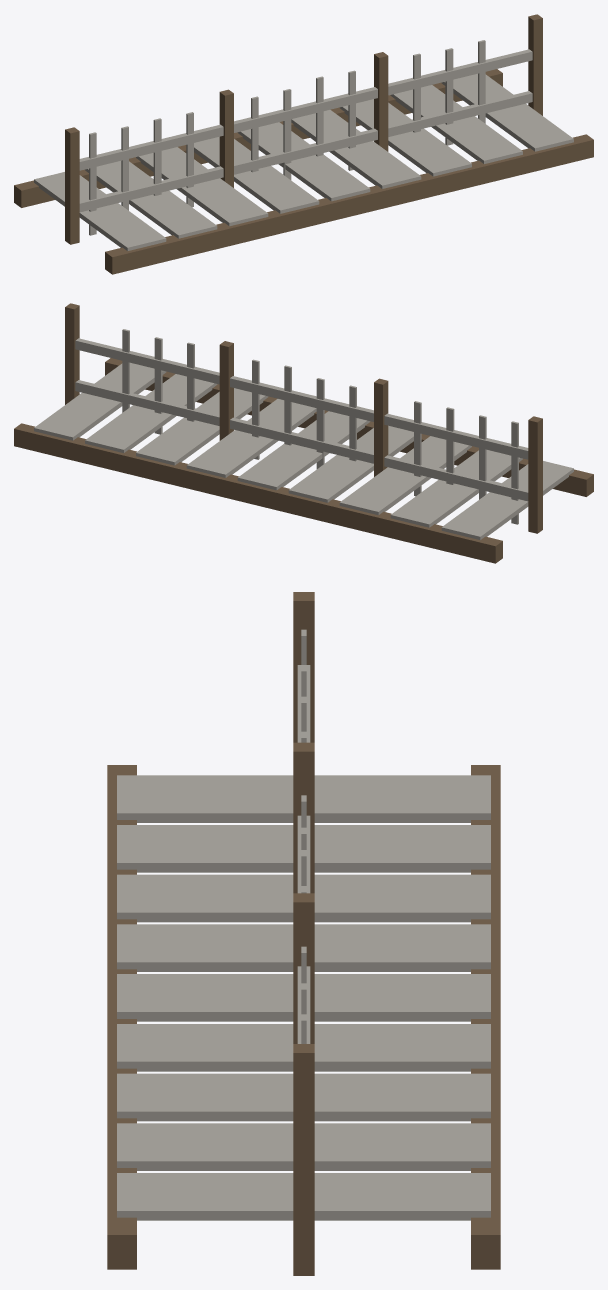
The model's file is LL_Fence_Dock.fbx.
3 views of the same model, one above another, from view 1: azimuth 30°, elevation 25°; view 2: azimuth 150°, elevation 25°; view 3: azimuth 270°, elevation 25° (orthographic). The views are drawn at different scales.
Parts seen in each view (by area): view 1: LL_Dock_Beam_N, LL_Fence_Rail_High, LL_Fence_Rail_Low, LL_Dock_Plank_08, LL_Dock_Plank_05, LL_Dock_Plank_02, LL_Dock_Plank_01, LL_Dock_Plank_04, LL_Dock_Plank_07, LL_Dock_Plank_00, LL_Dock_Plank_03, LL_Dock_Plank_06 (+16 smaller); view 2: LL_Dock_Beam_S, LL_Fence_Rail_High, LL_Fence_Rail_Low, LL_Dock_Plank_08, LL_Dock_Plank_05, LL_Dock_Plank_02, LL_Dock_Plank_01, LL_Dock_Plank_04, LL_Dock_Plank_07, LL_Dock_Plank_00, LL_Dock_Plank_03, LL_Dock_Plank_06 (+16 smaller); view 3: LL_Dock_Plank_02, LL_Dock_Plank_06, LL_Dock_Plank_03, LL_Dock_Plank_00, LL_Dock_Plank_01, LL_Dock_Plank_04, LL_Dock_Plank_05, LL_Dock_Plank_07, LL_Dock_Plank_08, LL_Dock_Beam_N, LL_Dock_Beam_S, LL_Fence_Post_3 (+4 smaller).
Part boxes in pixels (x1,y1,x2,y2): LL_Dock_Beam_N: (105, 134, 593, 274); LL_Fence_Rail_High: (79, 49, 532, 170); LL_Fence_Rail_Low: (79, 91, 532, 212); LL_Dock_Plank_08: (441, 73, 573, 151); LL_Dock_Plank_05: (291, 110, 421, 188); LL_Dock_Plank_02: (136, 147, 268, 226); LL_Dock_Plank_01: (85, 161, 217, 238); LL_Dock_Plank_04: (237, 122, 370, 201); LL_Dock_Plank_07: (390, 85, 522, 163); LL_Dock_Plank_00: (34, 172, 166, 251); LL_Dock_Plank_03: (194, 136, 319, 213); LL_Dock_Plank_06: (339, 99, 471, 176); LL_Dock_Beam_S: (14, 423, 502, 563); LL_Fence_Rail_High: (75, 338, 528, 459); LL_Fence_Rail_Low: (75, 380, 528, 501); LL_Dock_Plank_08: (34, 362, 166, 440); LL_Dock_Plank_05: (186, 399, 316, 477); LL_Dock_Plank_02: (339, 436, 471, 515); LL_Dock_Plank_01: (390, 450, 522, 527); LL_Dock_Plank_04: (237, 411, 370, 490); LL_Dock_Plank_07: (85, 374, 217, 452); LL_Dock_Plank_00: (441, 461, 573, 540); LL_Dock_Plank_03: (288, 425, 413, 502); LL_Dock_Plank_06: (136, 388, 268, 465); LL_Dock_Plank_02: (117, 874, 490, 922); LL_Dock_Plank_06: (117, 1073, 490, 1121); LL_Dock_Plank_03: (117, 924, 490, 971); LL_Dock_Plank_00: (117, 775, 490, 822); LL_Dock_Plank_01: (117, 825, 490, 872); LL_Dock_Plank_04: (117, 974, 490, 1021); LL_Dock_Plank_05: (117, 1024, 490, 1071); LL_Dock_Plank_07: (117, 1123, 490, 1170); LL_Dock_Plank_08: (117, 1173, 490, 1220); LL_Dock_Beam_N: (107, 765, 136, 1269); LL_Dock_Beam_S: (471, 765, 500, 1269); LL_Fence_Post_3: (293, 1044, 314, 1275).
Size of the model in its own units: 5.2 by 1.15 by 1.84.
